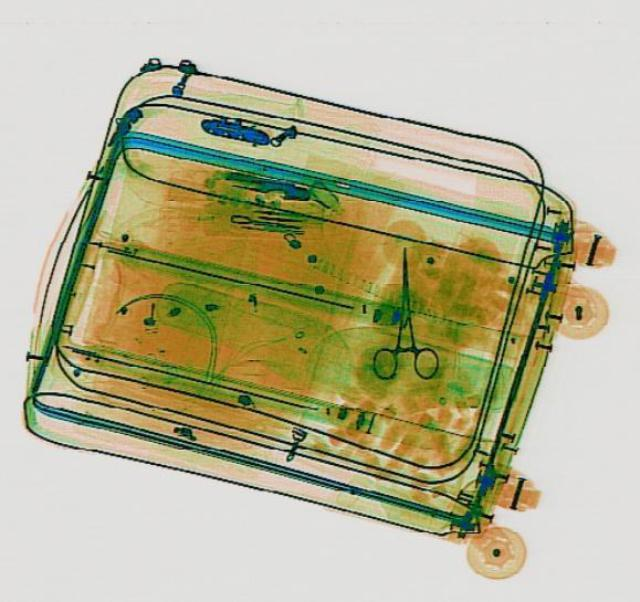Scissors: (369, 246, 437, 376)
